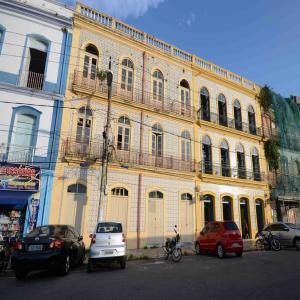Vehicle-registration-plate: (30, 245, 44, 251), (105, 250, 115, 255), (234, 243, 239, 248)
